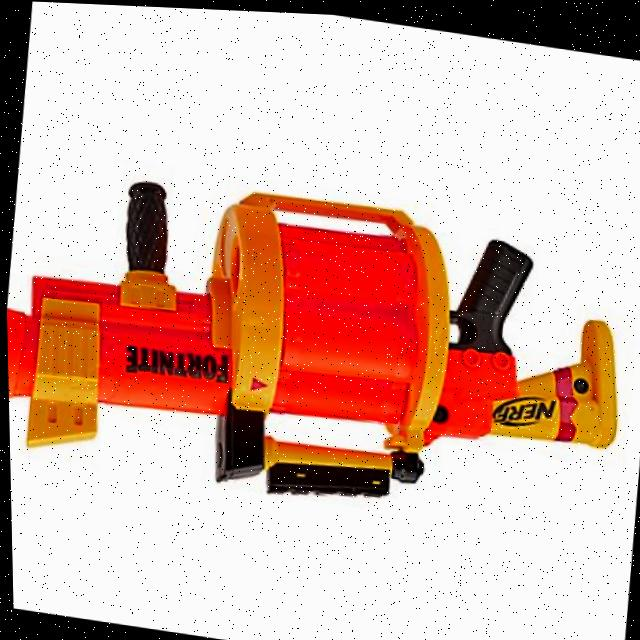rocket: (3, 150, 635, 544)
